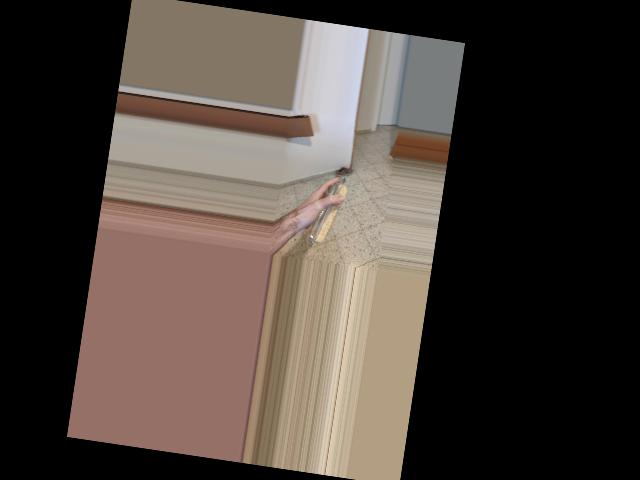cheese: (292, 168, 357, 241)
